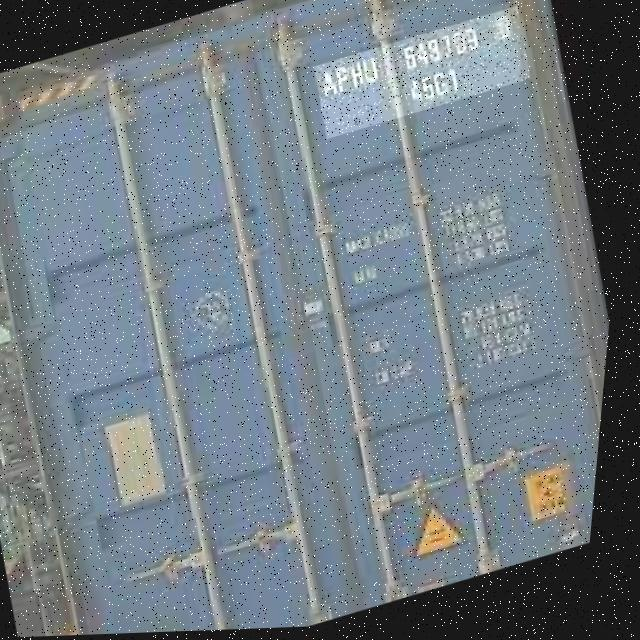container_number_h: (309, 9, 537, 142)
